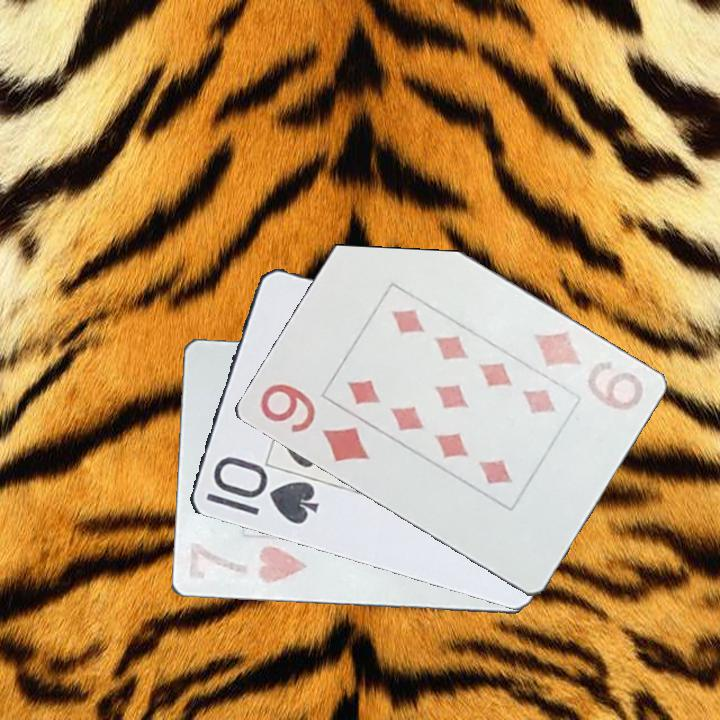7h: (183, 537, 309, 587)
9d: (255, 377, 373, 468), (529, 325, 649, 414)
Ts: (202, 455, 322, 528)
